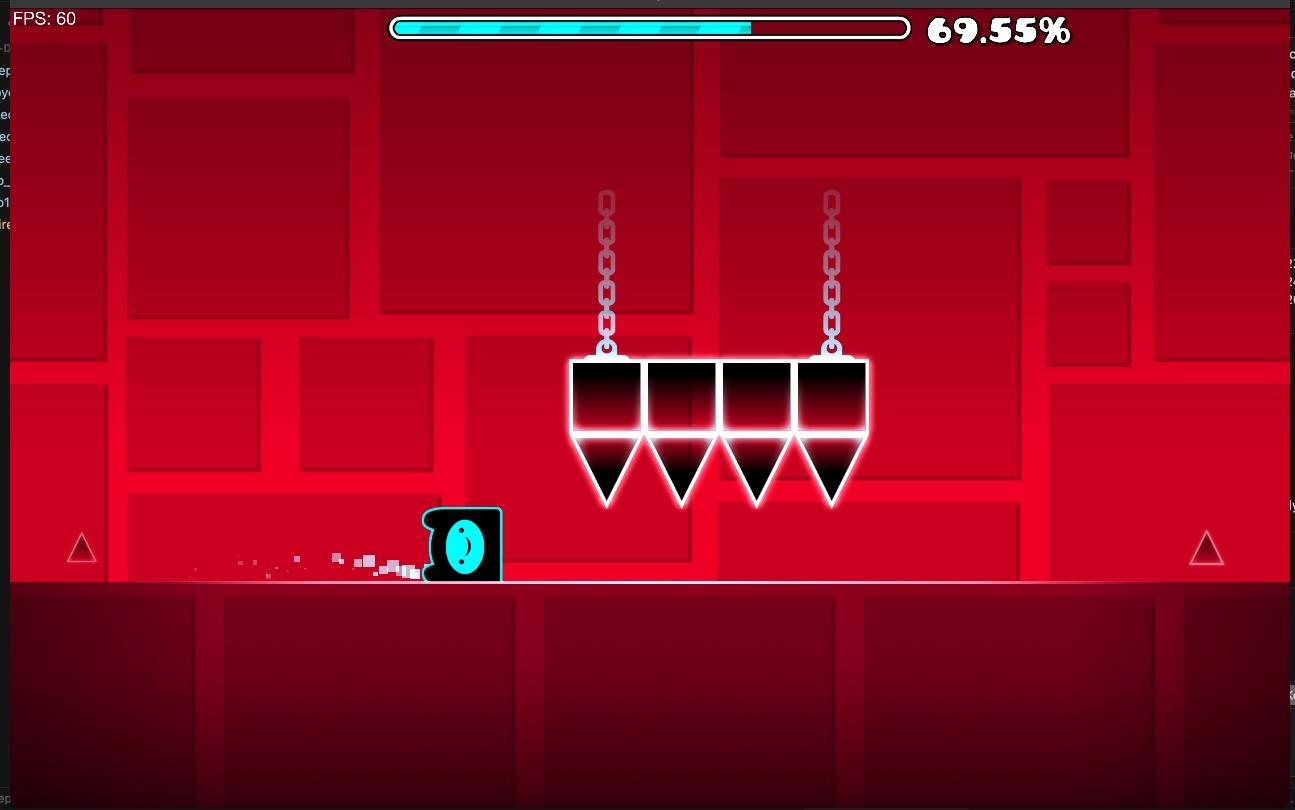player: (422, 507, 501, 580)
spike: (568, 355, 872, 505)
